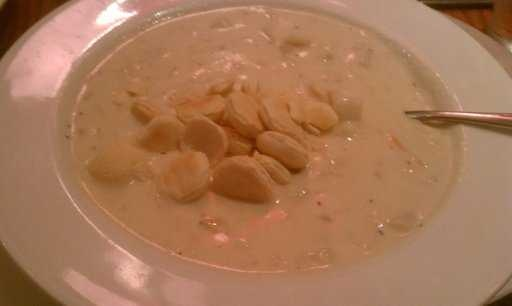soup: (33, 5, 467, 278)
